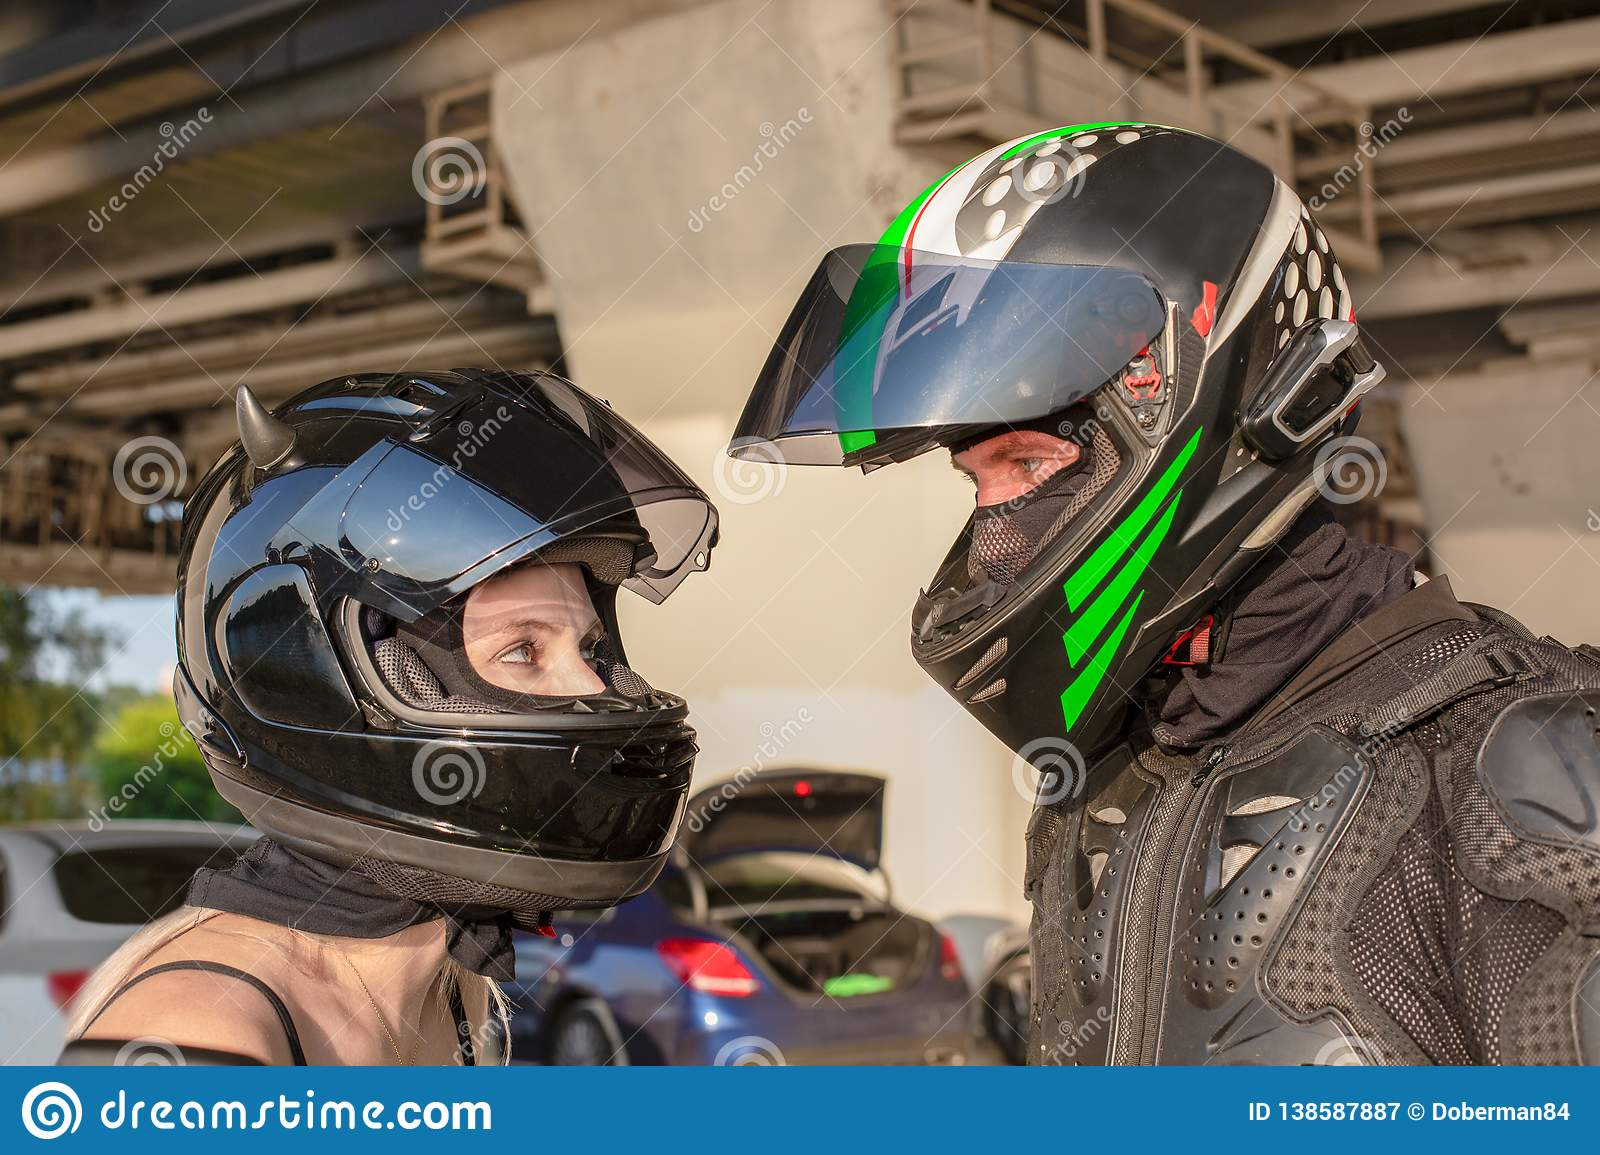helmet: (875, 145, 1357, 686), (202, 397, 714, 874)
